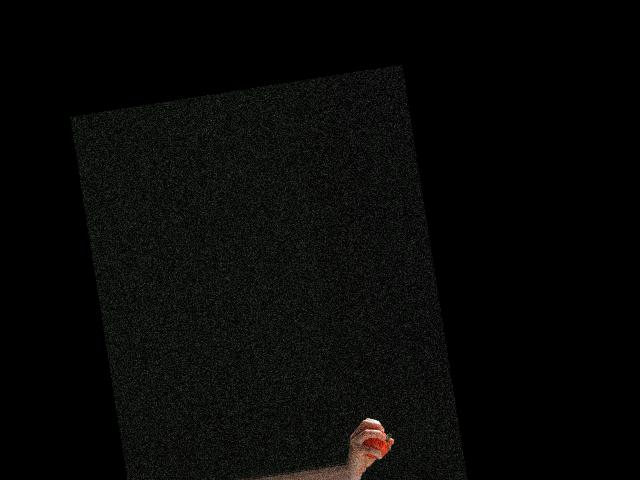tomato: (361, 432, 389, 460)
